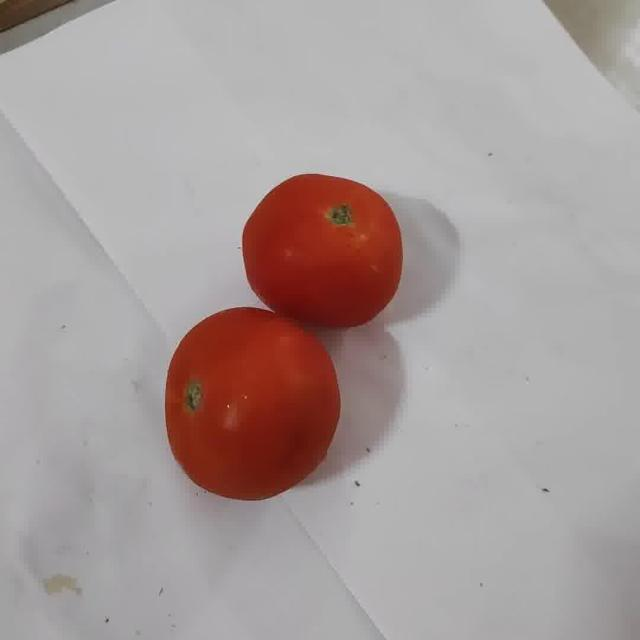Tomato: (165, 308, 340, 500), (242, 174, 402, 328)
